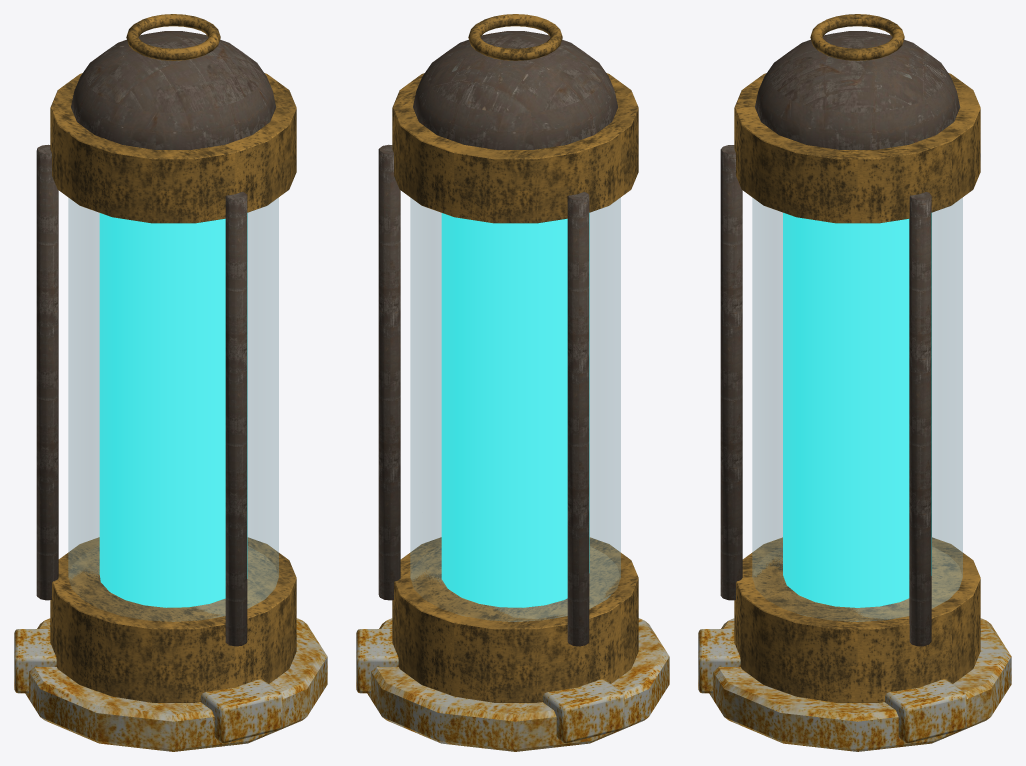
File: quest_canister.glb
3 renders of one model, left to right at view 1: azimuth 30°, elevation 25°; view 2: azimuth 150°, elevation 25°; view 3: azimuth 270°, elevation 25°, orthographic.
Visible parts, largest first — view 1: CanisterBody, CanisterOuterGlass, FillCore; view 2: CanisterBody, CanisterOuterGlass, FillCore; view 3: CanisterBody, CanisterOuterGlass, FillCore.
Boxes of the visible parts, x1,y1,x2,y2 form: CanisterBody: (14, 14, 327, 751); CanisterOuterGlass: (68, 198, 278, 621); FillCore: (99, 213, 247, 607); CanisterBody: (356, 14, 669, 751); CanisterOuterGlass: (410, 198, 620, 621); FillCore: (441, 213, 589, 607); CanisterBody: (698, 14, 1011, 751); CanisterOuterGlass: (752, 198, 962, 621); FillCore: (783, 212, 931, 607).
Size of the model in its own units: 0.6005 by 1.41 by 0.61.
5 materials, 3 textured.
